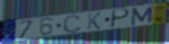6: (39, 16, 55, 37)
7: (19, 18, 35, 39)
C: (62, 14, 83, 34)
K: (86, 12, 102, 31)
M: (130, 5, 154, 27)
P: (110, 8, 132, 29)
